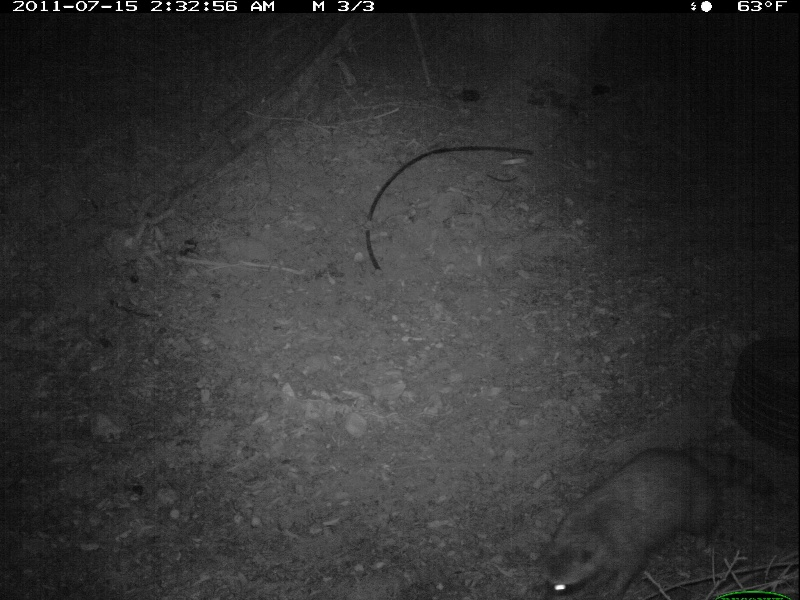raccoon: (541, 441, 724, 596)
